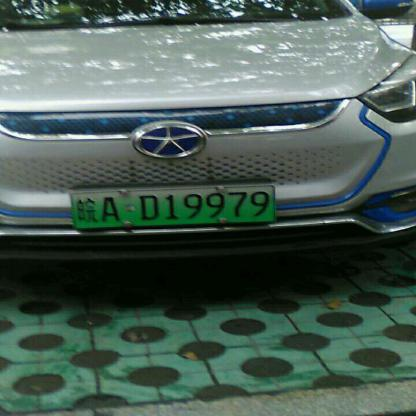lp: (72, 185, 274, 227)
